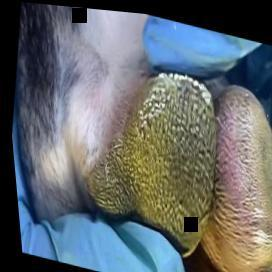keratosis: (64, 44, 232, 261)
